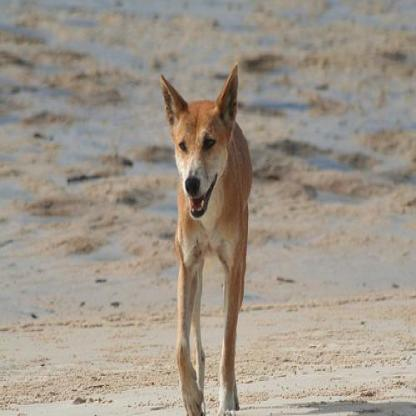dingo: (156, 59, 250, 412)
